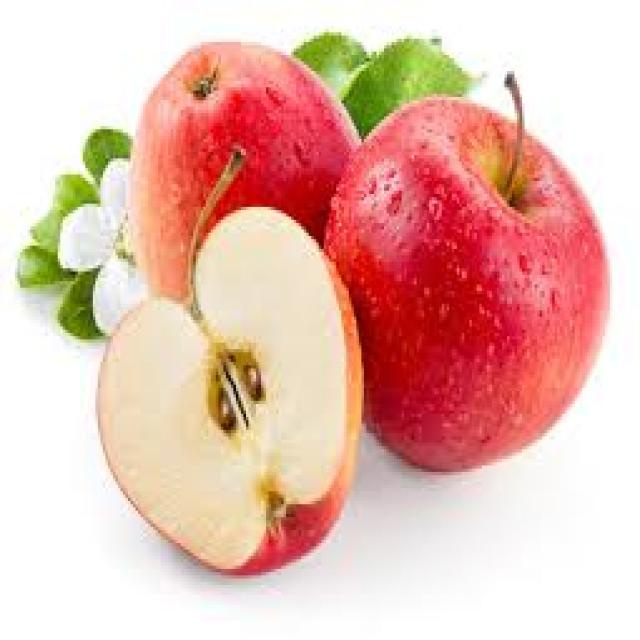apple: (328, 91, 620, 475)
